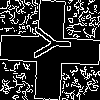Y: (25, 25, 72, 61)
